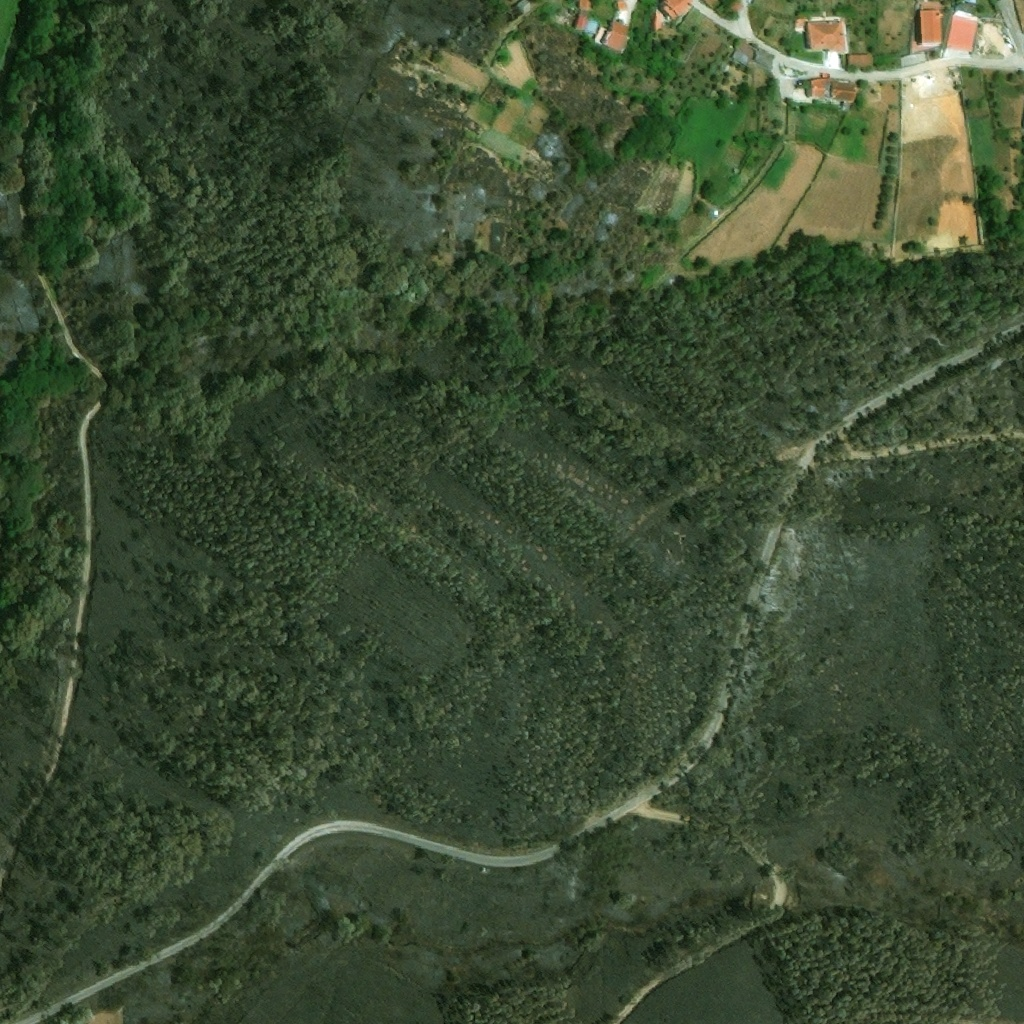0 no-damage: (594, 22, 628, 54), (807, 21, 842, 49), (920, 10, 941, 46), (732, 40, 754, 65), (831, 82, 855, 102), (575, 14, 599, 34), (754, 47, 772, 70), (848, 54, 873, 68), (654, 9, 666, 31), (811, 79, 825, 97), (794, 17, 806, 27)
4 un-classified: (662, 0, 690, 18), (955, 2, 977, 17), (578, 0, 594, 17), (512, 0, 532, 13), (730, 0, 744, 14), (701, 0, 721, 9), (965, 37, 975, 55), (617, 1, 628, 12)
